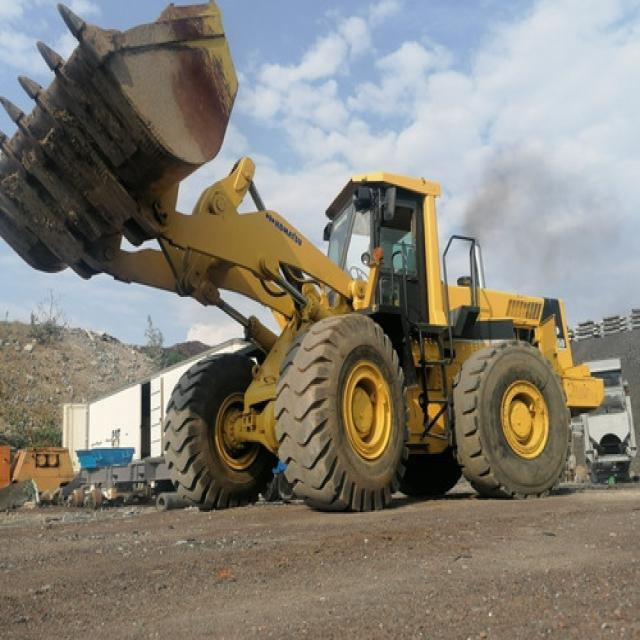buldozerpayloadergrader: (2, 0, 610, 512)
